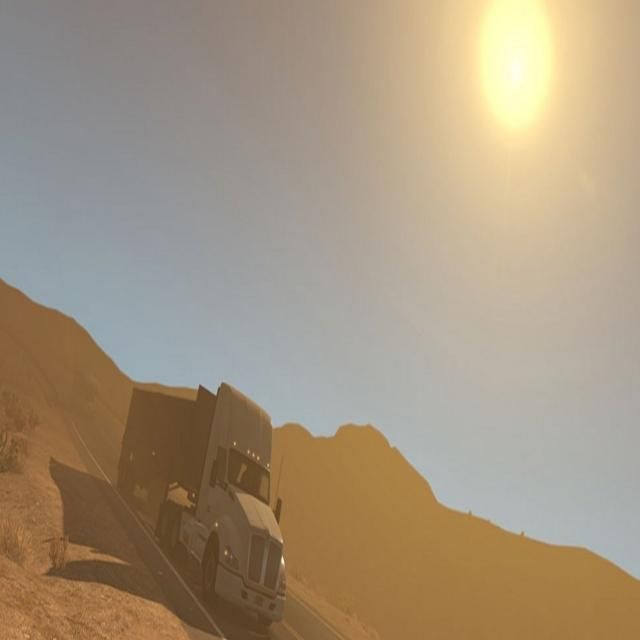bus: (114, 367, 284, 628), (71, 364, 99, 418)
